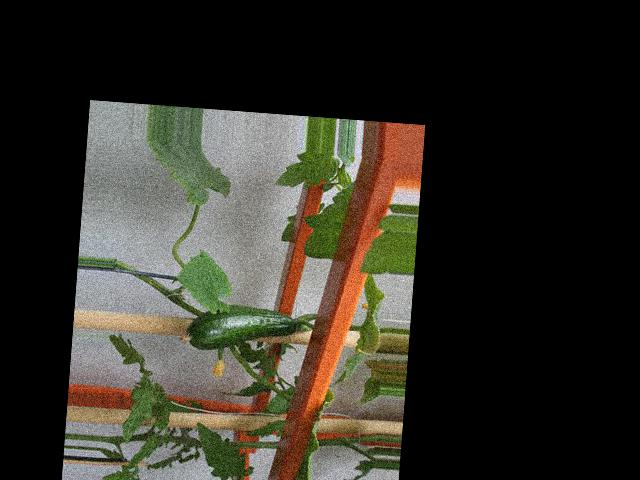cucumber: (177, 301, 297, 356)
